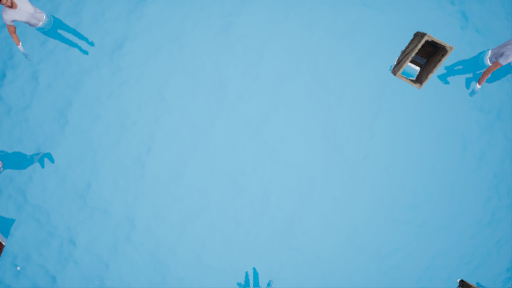person: (1, 1, 92, 69)
